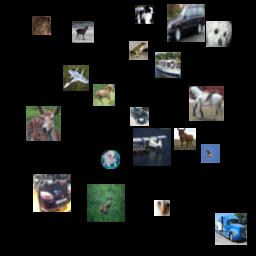airplane: (133, 128, 171, 166), (63, 65, 89, 91)
automobile: (167, 4, 205, 42), (33, 174, 71, 212), (130, 107, 149, 126)
bird: (201, 144, 220, 163)
cat: (154, 200, 170, 216)
deer: (87, 184, 125, 222), (26, 106, 61, 141), (72, 21, 94, 43)
dog: (206, 21, 232, 47), (101, 150, 120, 169), (135, 5, 154, 24)
frog: (129, 41, 148, 60), (32, 16, 51, 35)
ship: (155, 52, 181, 78)
truck: (215, 213, 247, 245)
